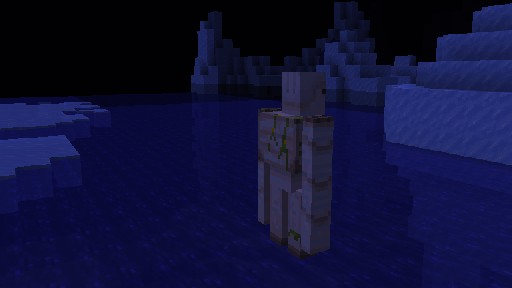iron_golem: (257, 71, 333, 259)
